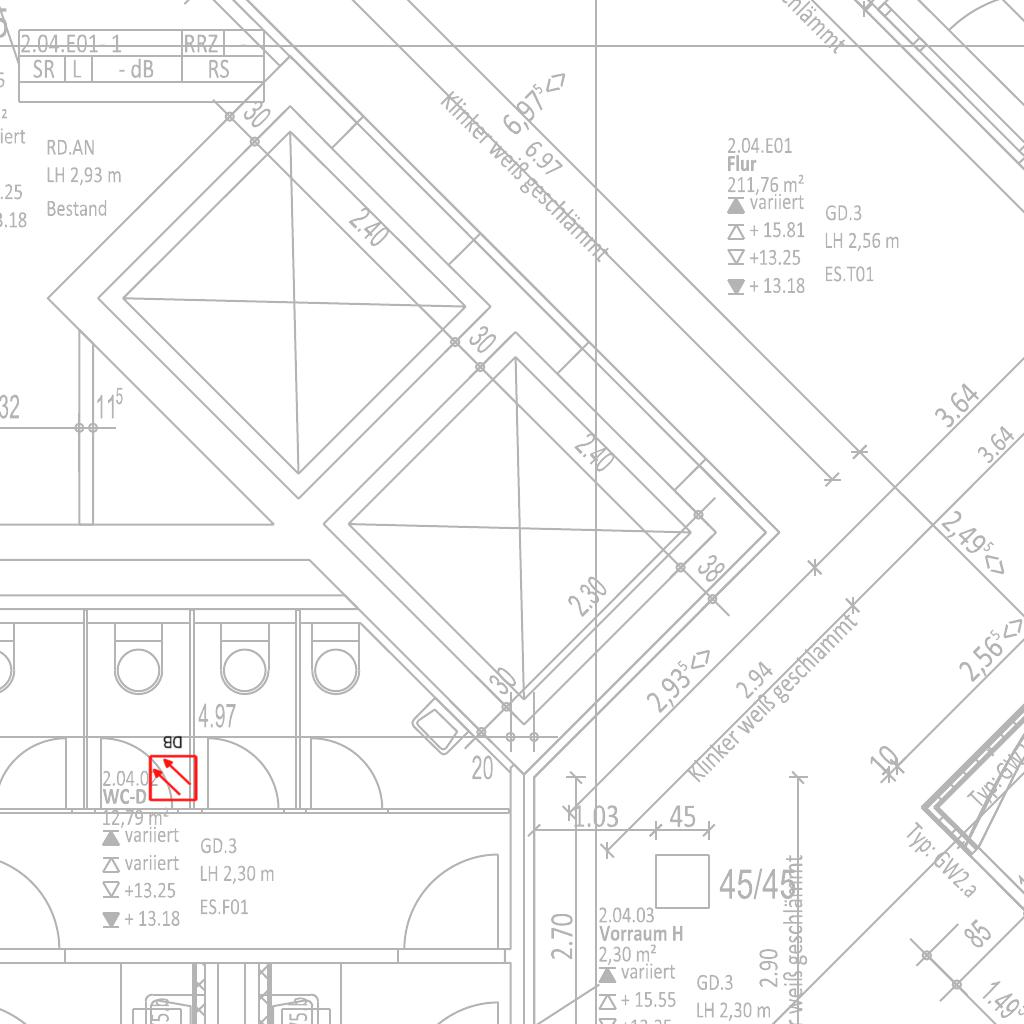DB_Melder_in_Doppelboden_mit_Revisionsoeffnung_mind_40_x_40_cm: (144, 731, 201, 805)
